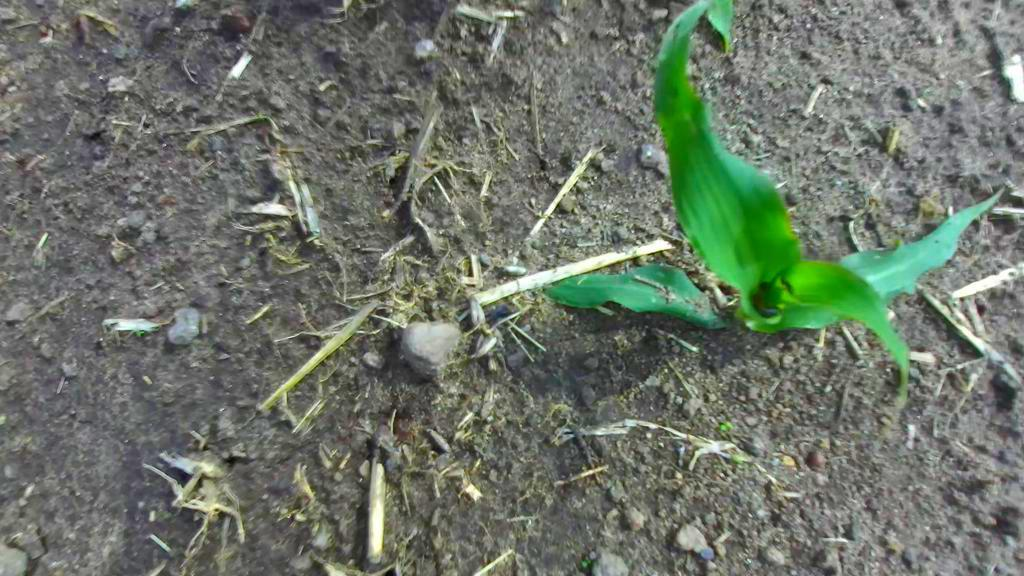BroWeed: (728, 453, 744, 468), (579, 554, 592, 568), (718, 420, 733, 432), (135, 331, 143, 337)
